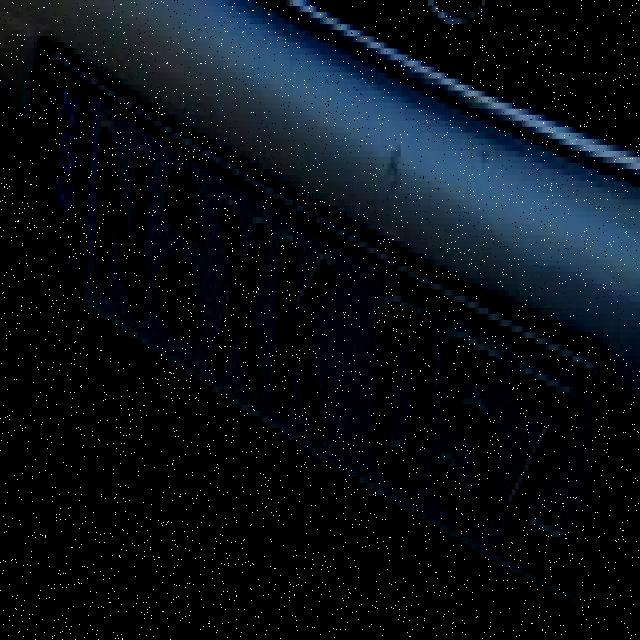licenseplate: (25, 15, 602, 624)
